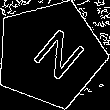N_SW: (18, 22, 83, 86)
